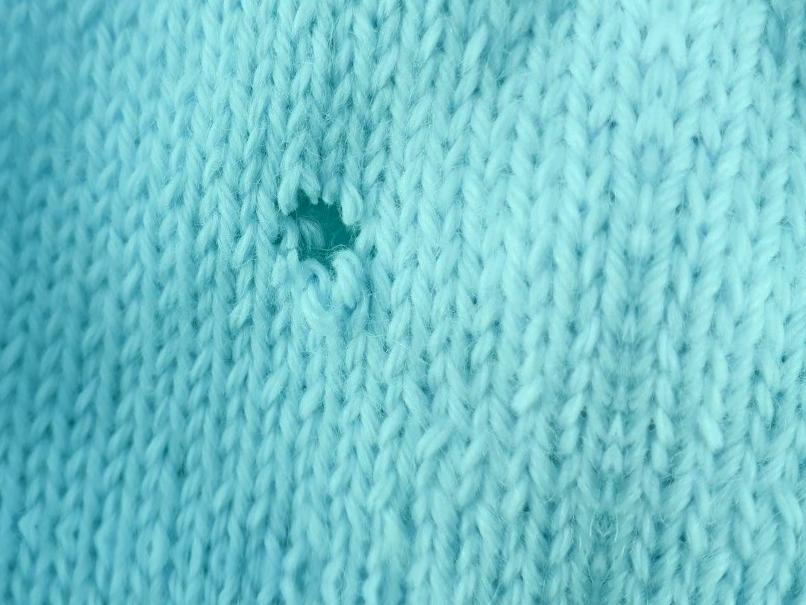hole: (275, 183, 371, 285)
